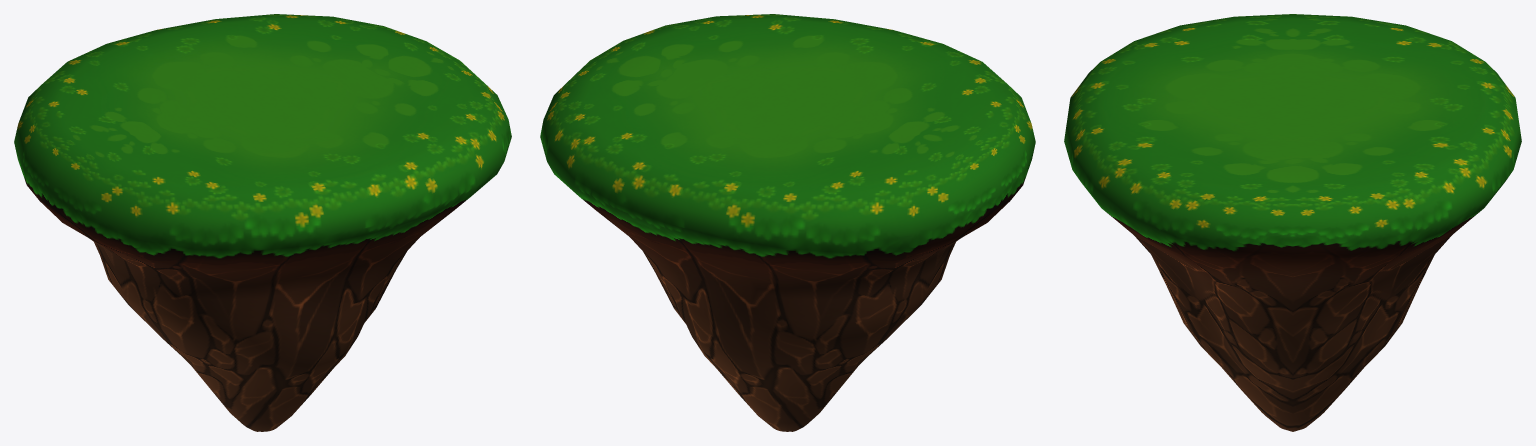
Rendered from Green_Island_LOD.FBX.
The picture shows the model from 3 angles, left to right: view 1: azimuth 30°, elevation 25°; view 2: azimuth 150°, elevation 25°; view 3: azimuth 270°, elevation 25°; orthographic projection.
Parts seen in each view (by area): view 1: Green_Island_LOD; view 2: Green_Island_LOD; view 3: Green_Island_LOD.
Boxes of the visible parts, x1,y1,x2,y2 form: Green_Island_LOD: [14, 14, 511, 431]; Green_Island_LOD: [540, 14, 1035, 431]; Green_Island_LOD: [1064, 14, 1521, 431].
Bounding box in the file's own units: 1747 × 1290 × 1639.
